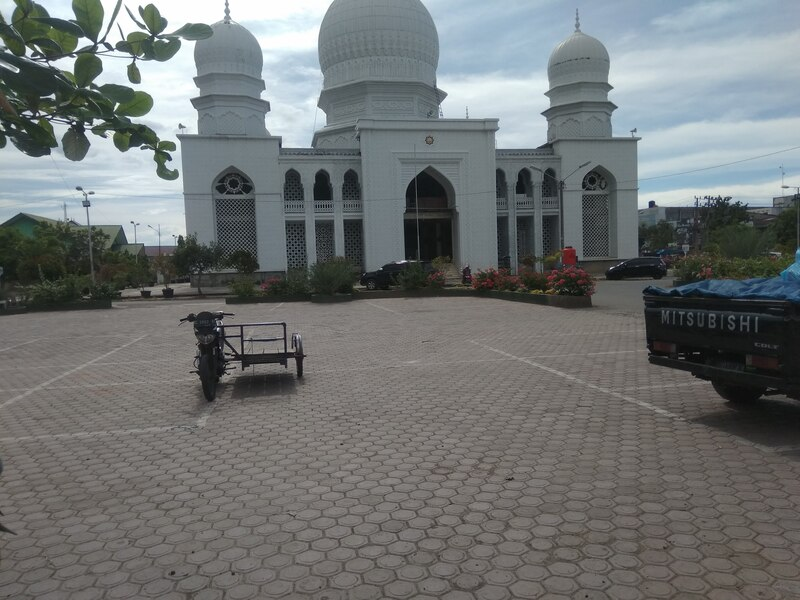becak barang: (174, 304, 314, 408)
